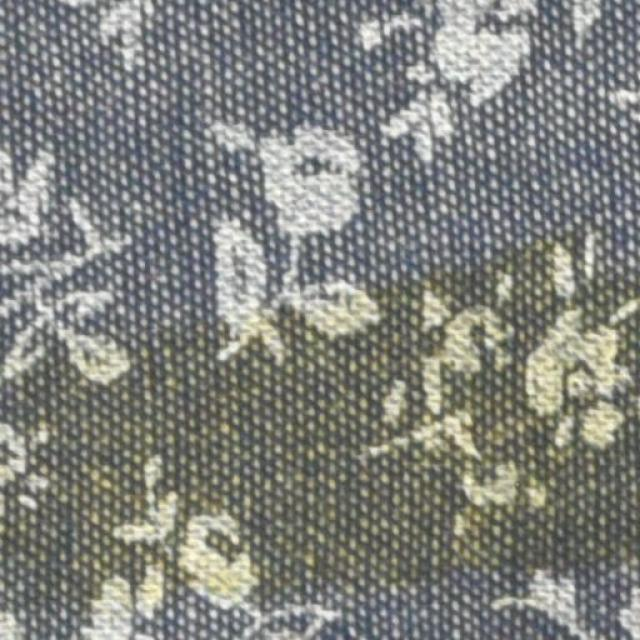Stain: (0, 240, 639, 624)
